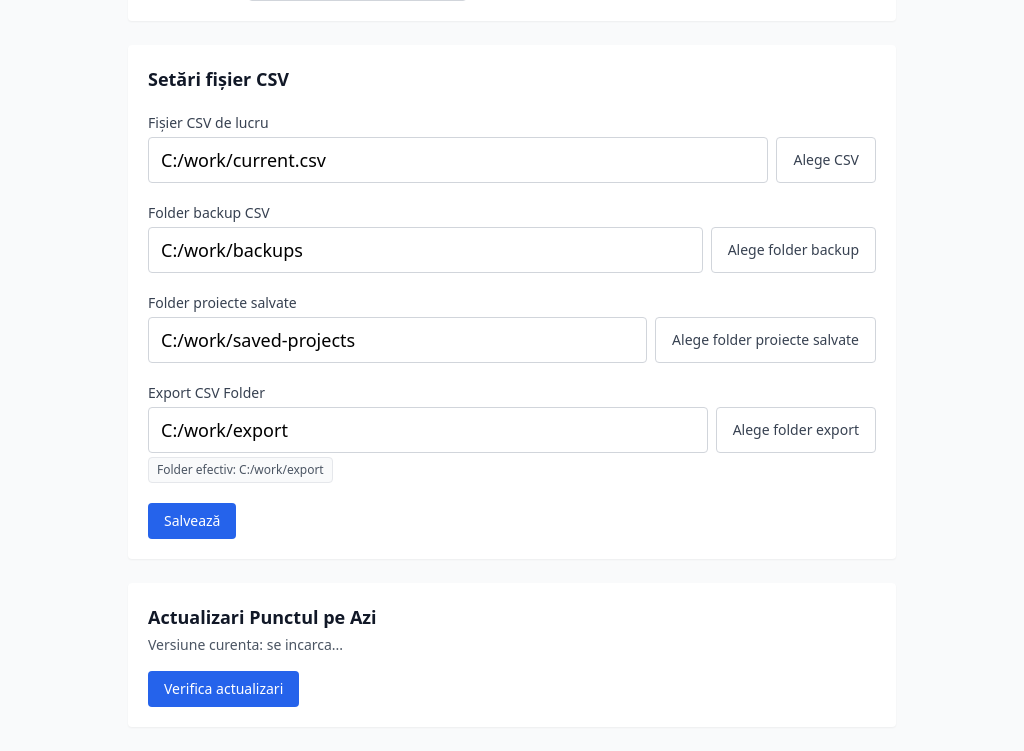
Test case: DefaultProjectSettingsPage › selects export CSV folder through the CSV file settings service
(page scrolled)
Click the button "Alege folder export": (796, 430) [716,407,876,453]
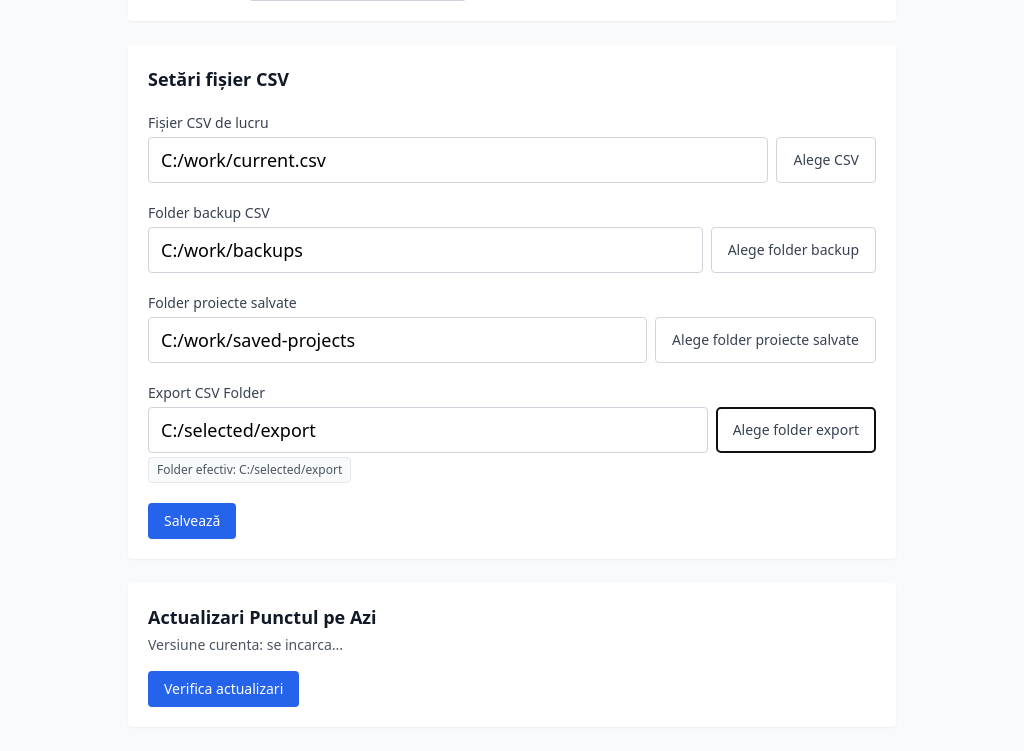
Expected: the field labelled "Export CSV Folder" holds "C:/selected/export", [148,407,708,453]
